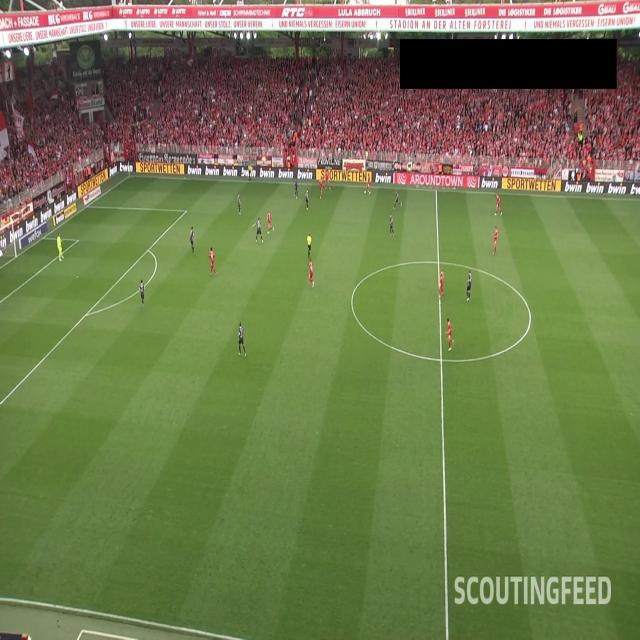ball: (364, 190, 366, 194)
goalkeeper: (57, 232, 64, 261)
player: (252, 216, 264, 243), (238, 322, 246, 358), (208, 247, 217, 276), (392, 190, 402, 211), (446, 318, 452, 350), (466, 270, 472, 302), (438, 268, 444, 298), (308, 258, 314, 288), (492, 225, 498, 255), (139, 278, 145, 307), (495, 193, 502, 217), (267, 211, 274, 233), (190, 226, 195, 254), (325, 168, 331, 191), (389, 214, 395, 237), (237, 193, 242, 215), (294, 180, 299, 199), (319, 176, 323, 199), (305, 188, 309, 210), (366, 178, 371, 194)
referee: (307, 232, 312, 258), (248, 162, 252, 182)
